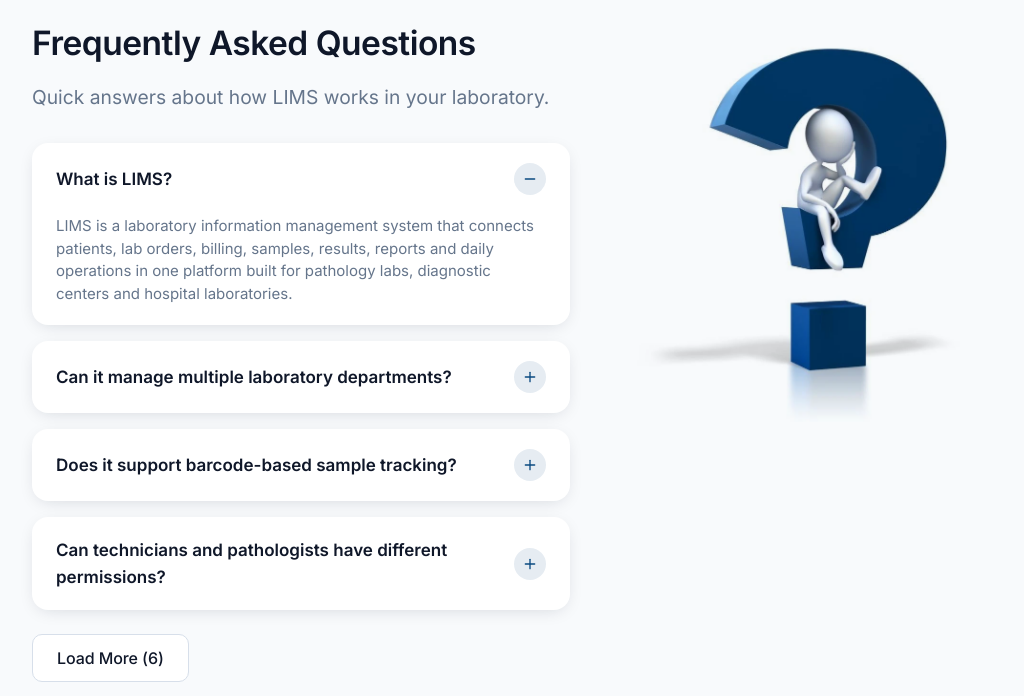
Faq › “Load More (6)” reveals the rest, in order, and the count is right on the button
Click the button "Load More (6)" at point(110, 658), box [32, 634, 189, 682]
(page scrolled)
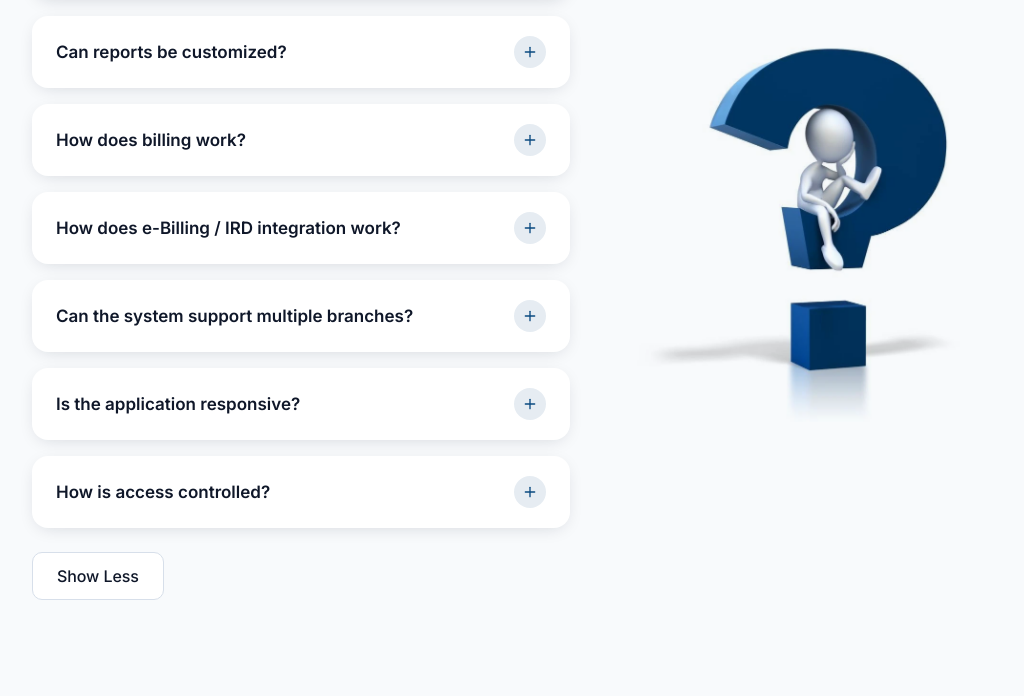
Expected: the button "Show Less" is shown, [32, 552, 164, 600]
Expected: the button "Show Less" is expanded, [32, 552, 164, 600]
